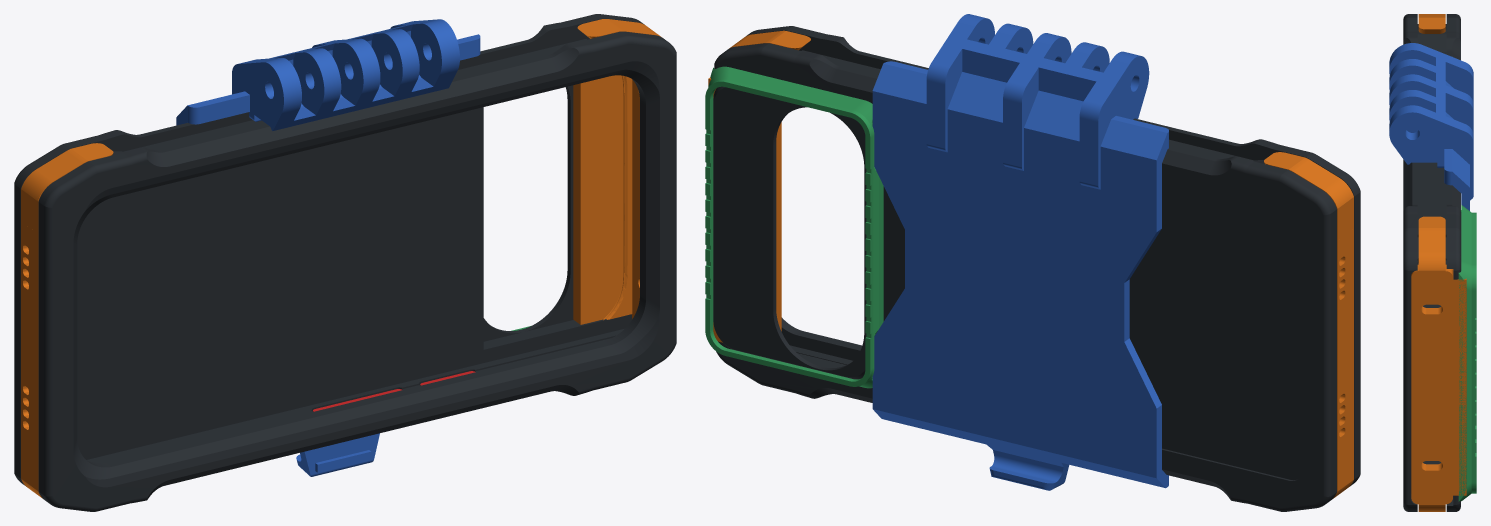
Rendered from pixel10_assembly.obj.
The picture shows the model from 3 angles, left to right: view 1: azimuth 30°, elevation 25°; view 2: azimuth 150°, elevation 25°; view 3: azimuth 270°, elevation 25°; orthographic projection. The views are drawn at different scales.
Visible parts, largest first — view 1: case, molle_adapter, top_cap, bottom_cap; view 2: molle_adapter, case, camera_protector_cap, bottom_cap, top_cap; view 3: top_cap, molle_adapter, case, camera_protector_cap, bottom_cap.
Boxes of the visible parts, bbox=[...] form: case: bbox=[14, 14, 676, 511]; molle_adapter: bbox=[176, 19, 480, 476]; top_cap: bbox=[573, 19, 660, 324]; bottom_cap: bbox=[21, 143, 113, 498]; molle_adapter: bbox=[872, 14, 1168, 490]; case: bbox=[713, 26, 1360, 511]; camera_protector_cap: bbox=[705, 66, 883, 388]; bottom_cap: bbox=[1264, 152, 1353, 498]; top_cap: bbox=[708, 30, 810, 342]; top_cap: bbox=[1411, 216, 1466, 511]; molle_adapter: bbox=[1389, 43, 1473, 210]; case: bbox=[1403, 14, 1461, 511]; camera_protector_cap: bbox=[1458, 205, 1476, 501]; bottom_cap: bbox=[1418, 14, 1445, 33].
Size of the model in its own units: 164 by 109 by 24.34.
